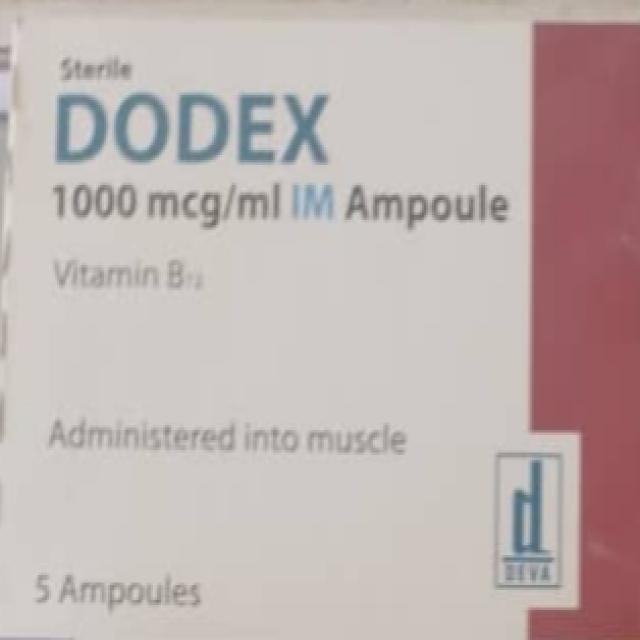drug-name: (50, 86, 332, 168)
